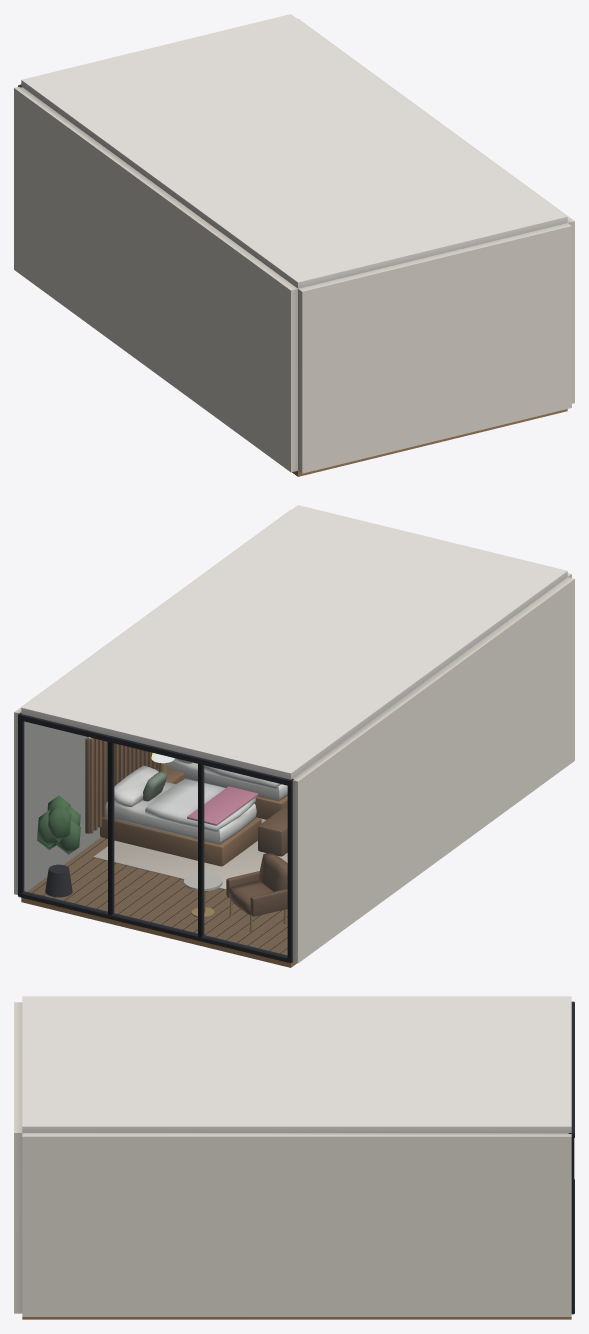
File: kw-superior.glb
3 renders of one model, top to bottom at view 1: azimuth 30°, elevation 25°; view 2: azimuth 150°, elevation 25°; view 3: azimuth 270°, elevation 25°, orthographic.
Parts seen in each view (by area): view 1: Room_wall, Room_ceiling, Room_floor; view 2: Room_ceiling, Room_wall, Room_glass, Room_floor, Room_frameDark, Room_wood, Room_linen, Room_fabric2, Room_rug, Room_duvet, Room_leaf, Room_accent (+3 smaller); view 3: Room_wall, Room_ceiling, Room_floor, Room_frameDark.
Boxes of the visible parts, x1,y1,x2,y2 form: Room_wall: (14, 18, 574, 473); Room_ceiling: (21, 14, 567, 288); Room_floor: (292, 409, 567, 476); Room_ceiling: (21, 505, 567, 779); Room_wall: (14, 509, 574, 963); Room_glass: (23, 722, 286, 955); Room_floor: (21, 837, 296, 967); Room_frameDark: (18, 712, 293, 962); Room_wood: (90, 738, 287, 866); Room_linen: (105, 758, 287, 844); Room_fabric2: (226, 805, 287, 916); Room_rug: (93, 817, 287, 889); Room_duvet: (145, 765, 281, 832); Room_leaf: (37, 795, 80, 854); Room_accent: (85, 737, 156, 833); Room_wall: (14, 1002, 571, 1316); Room_ceiling: (22, 996, 571, 1132); Room_floor: (22, 1317, 571, 1319); Room_frameDark: (568, 1001, 574, 1314).
Bounding box in the file's own units: 4.74 × 3.1 × 8.17.
